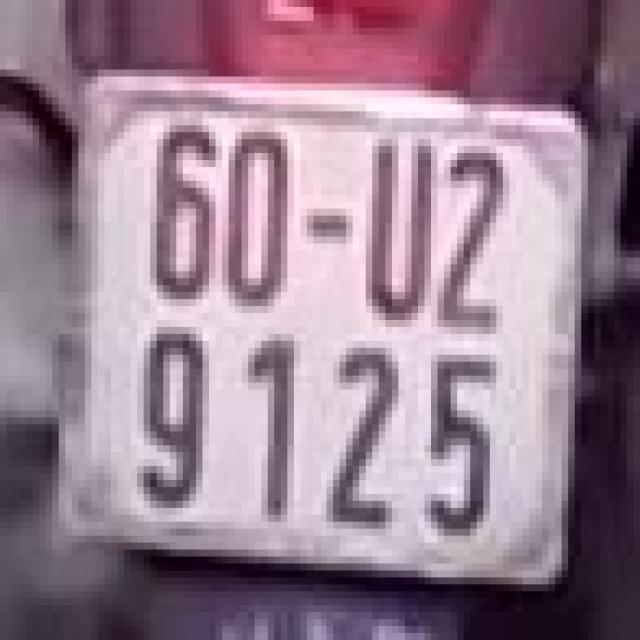0: (222, 125, 300, 313)
1: (242, 327, 300, 529)
2: (320, 338, 405, 539), (437, 136, 516, 330)
5: (414, 341, 512, 549)
6: (134, 111, 219, 306)
9: (130, 320, 216, 529)
U: (359, 125, 438, 327)
